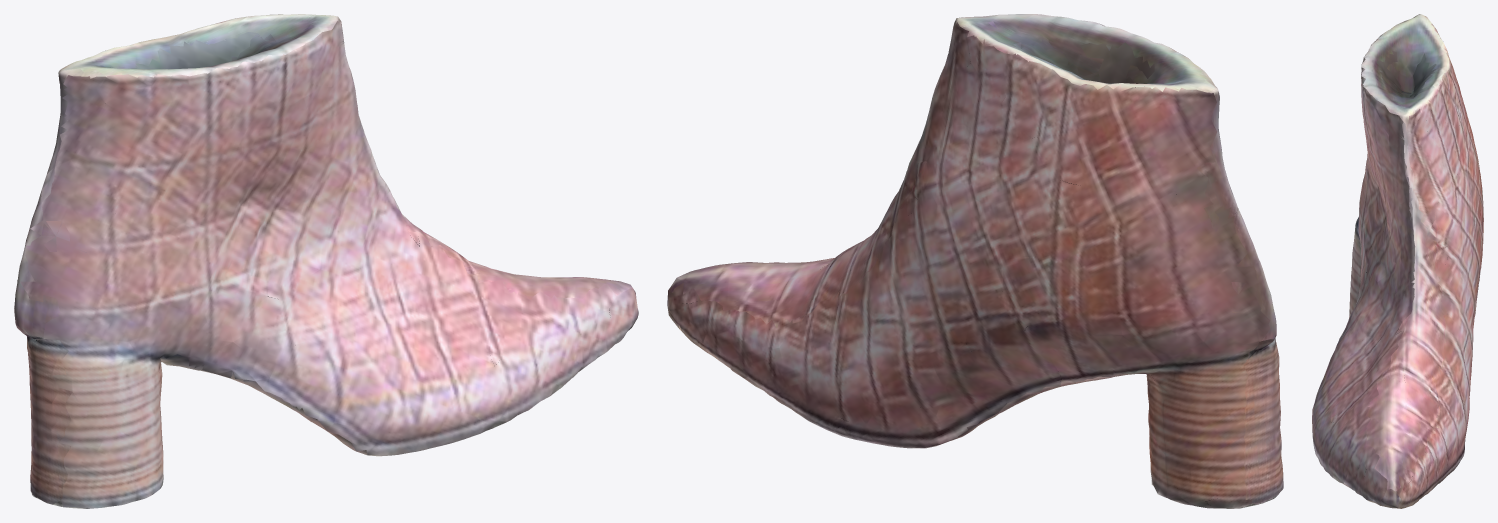
3 renders of one model, left to right at view 1: azimuth 30°, elevation 25°; view 2: azimuth 150°, elevation 25°; view 3: azimuth 270°, elevation 25°, orthographic. The views are drawn at different scales.
Visible parts, largest first — view 1: world; view 2: world; view 3: world.
Part boxes in pixels (x1=…): world: x1=14, y1=14, x2=638, y2=508; world: x1=667, y1=14, x2=1283, y2=508; world: x1=1312, y1=14, x2=1483, y2=508.
Size of the model in its own units: 1.01 by 0.6544 by 0.3191.
Materials: 1 (1 with a texture image).
